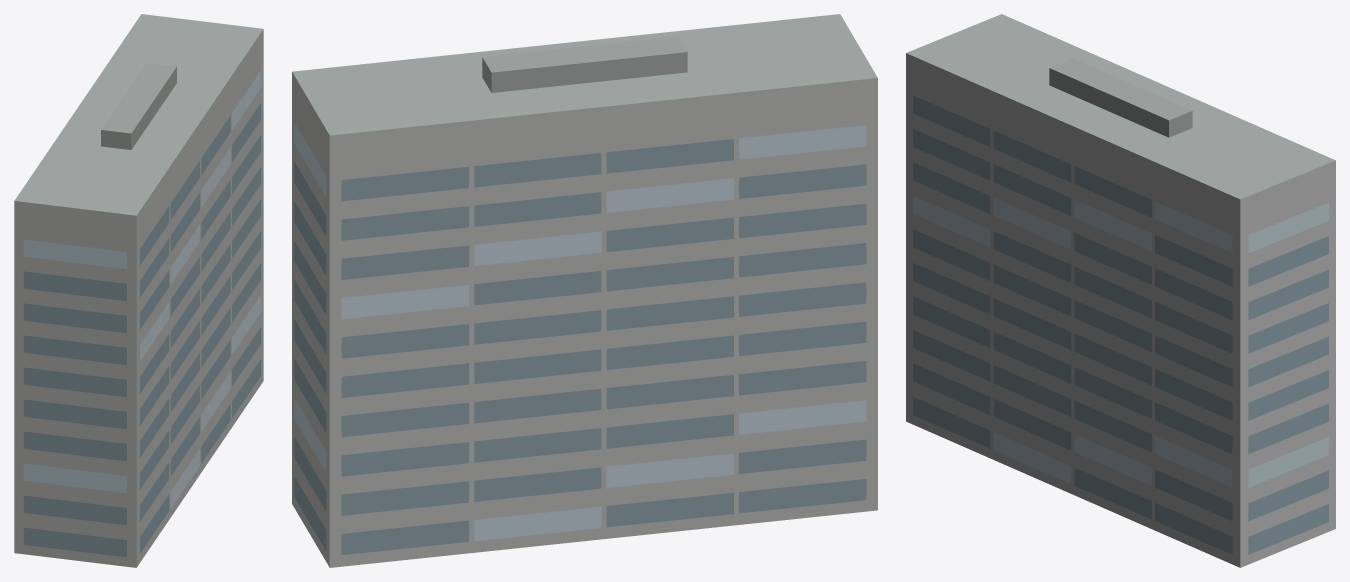
Rendered from fallback-dmc-parkview-xi-extension-202.glb.
The picture shows the model from 3 angles, left to right: view 1: azimuth 30°, elevation 25°; view 2: azimuth 150°, elevation 25°; view 3: azimuth 270°, elevation 25°; orthographic projection. The views are drawn at different scales.
Visible parts, largest first — view 1: fallback-dmc-parkview-xi-extension-202; view 2: fallback-dmc-parkview-xi-extension-202; view 3: fallback-dmc-parkview-xi-extension-202.
Boxes of the visible parts, box(x1,y1,x2,y2) form: fallback-dmc-parkview-xi-extension-202: box(14, 14, 263, 567); fallback-dmc-parkview-xi-extension-202: box(292, 14, 877, 567); fallback-dmc-parkview-xi-extension-202: box(906, 14, 1335, 567).
Size of the model in its own units: 35.04 by 34 by 34.33.
